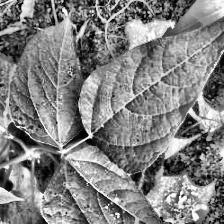ALS: (76, 0, 224, 177), (44, 143, 173, 224), (8, 18, 90, 145)
